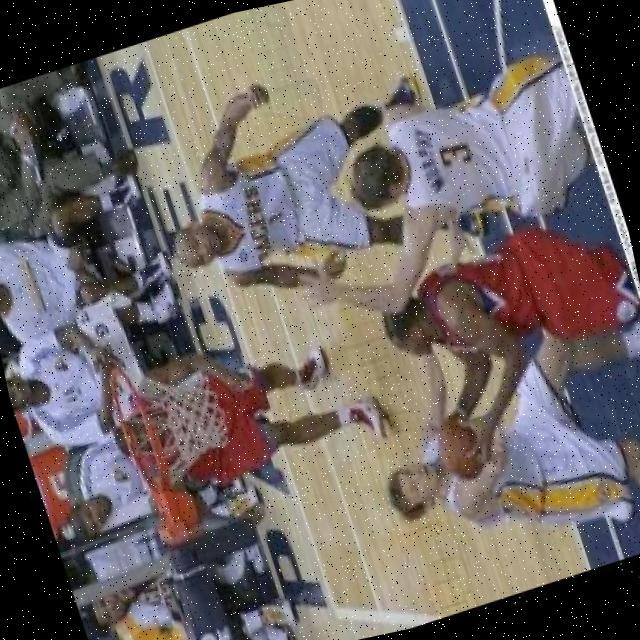ball: (416, 394, 505, 494)
hoop: (98, 354, 182, 504)
